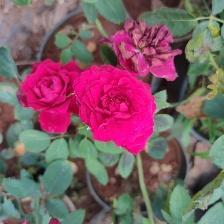rose: (73, 64, 158, 158), (20, 61, 80, 127)
